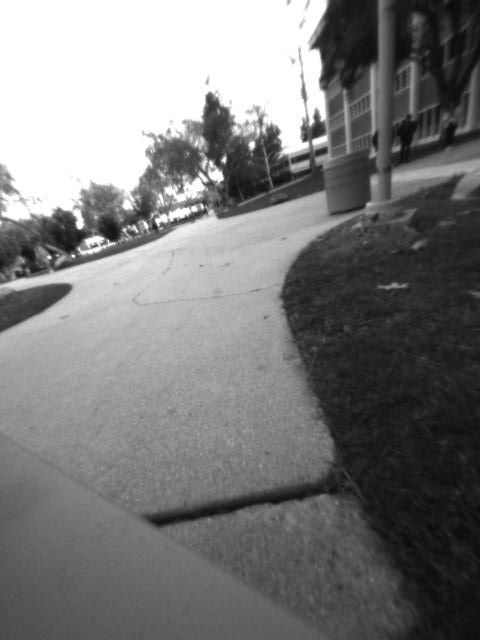trashcan: (320, 145, 373, 213)
